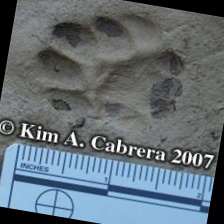cat: (22, 0, 194, 140)
